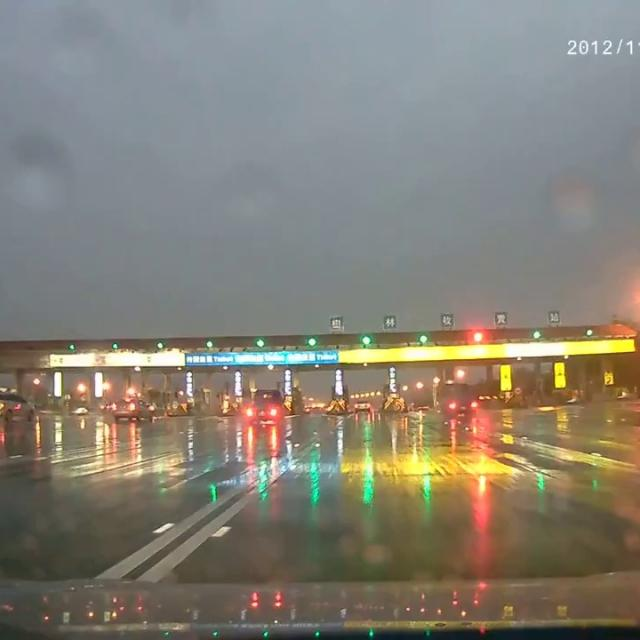Car: (0, 390, 34, 425), (113, 394, 154, 422), (354, 399, 369, 412)
